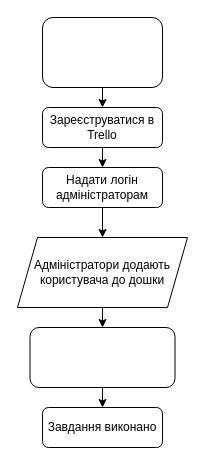
Some shapes in this 205 by 465 pixel diagram are drawn without their labels. Each missing label, with the centre of its shape:
Додати завдання до дошки із вказаним іменем та прізвищем: (x=102, y=357)
Завдання: зареєструватися в Trello: (x=102, y=52)
